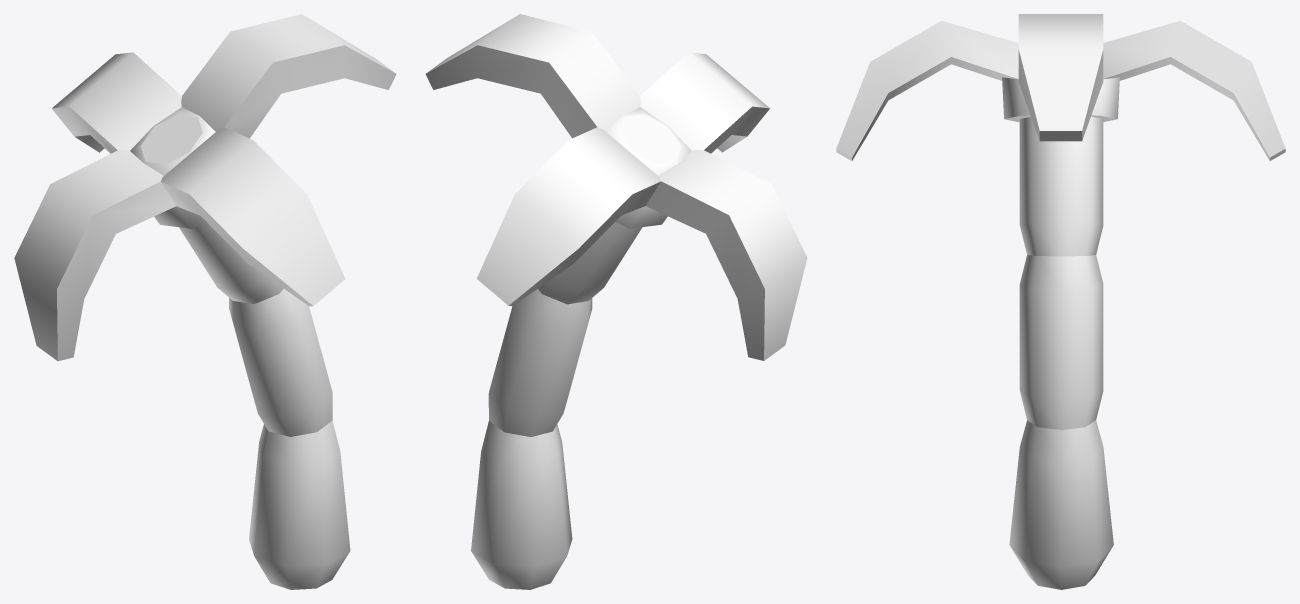
Rendered from palm-bend.glb.
The picture shows the model from 3 angles, left to right: view 1: azimuth 30°, elevation 25°; view 2: azimuth 150°, elevation 25°; view 3: azimuth 270°, elevation 25°; orthographic projection.
Visible parts, largest first — view 1: palm-bend; view 2: palm-bend; view 3: palm-bend.
Boxes of the visible parts, box(x1,y1,x2,y2) form: palm-bend: box(14, 14, 396, 589); palm-bend: box(425, 14, 807, 589); palm-bend: box(836, 14, 1285, 589).
Bounding box in the file's own units: 2.88 × 4.25 × 3.22.
1 material, 1 textured.
